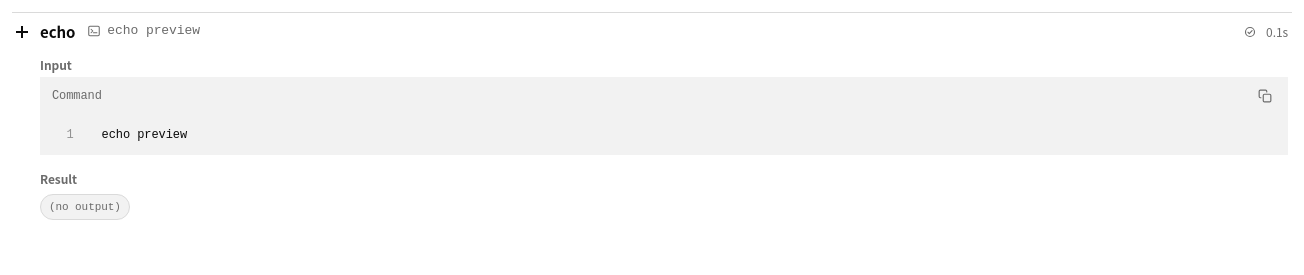
Scenario: ToolCard inline detail focus › opens the header row inline and restores focus to an inline preview invoker
Later steps or results of the test are not shown.
expect the text "Started" is not shown: met
Click the button "echo echo preview 0.1s". click: (58, 32)
box: [12,12,1292,53]
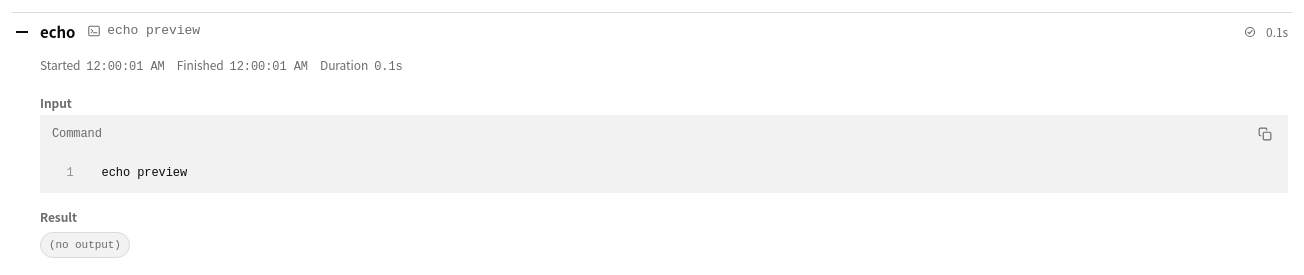
expect the text "Started" is shown: met, box [40,57,80,73]
expect the text "Finished" is shown: met, box [177,57,224,73]
